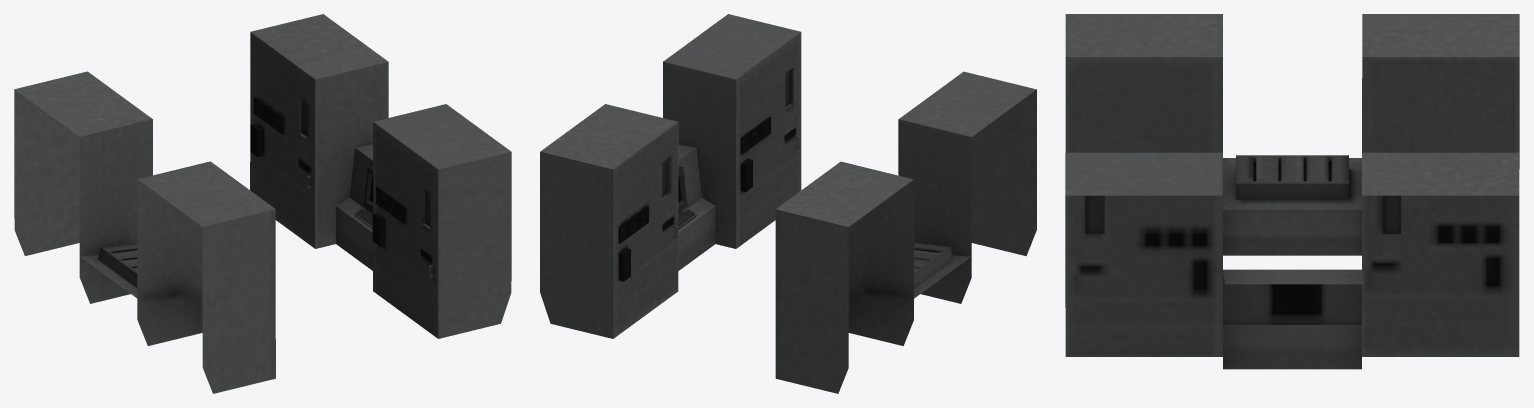
The model's file is electrical_layout.fbx.
3 renders of one model, left to right at view 1: azimuth 30°, elevation 25°; view 2: azimuth 150°, elevation 25°; view 3: azimuth 270°, elevation 25°, orthographic. The views are drawn at different scales.
Parts seen in each view (by area): view 1: cabinet1.002; view 2: cabinet1.002; view 3: cabinet1.002.
Boxes of the visible parts, bbox=[...] form: cabinet1.002: bbox=[14, 14, 511, 393]; cabinet1.002: bbox=[540, 14, 1036, 393]; cabinet1.002: bbox=[1065, 14, 1519, 369].
Bounding box in the file's own units: 4.52 × 2.37 × 4.77.
